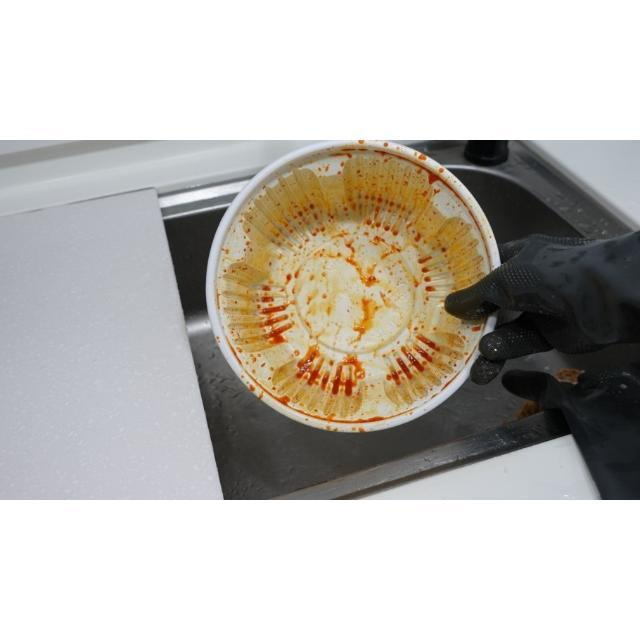Recipiente plastico: (207, 137, 505, 432)
